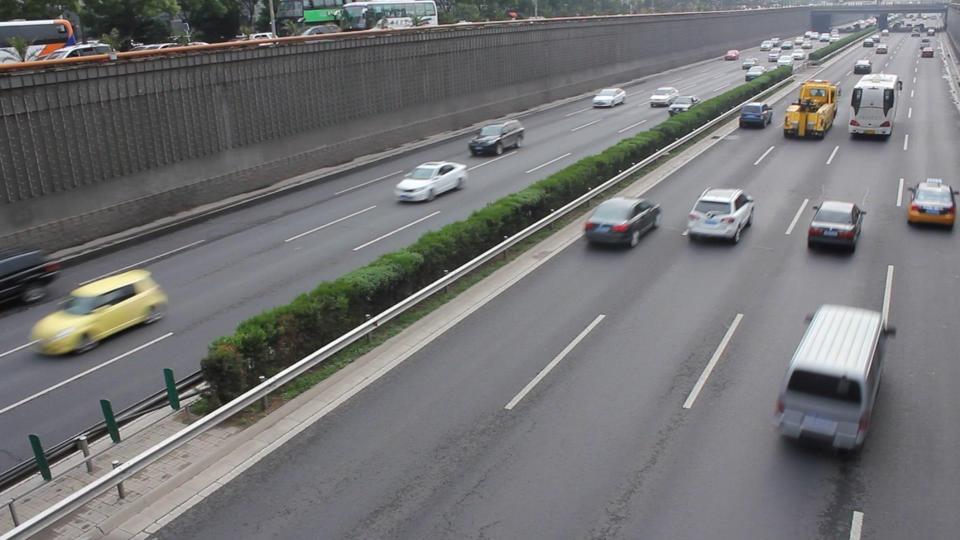Car: (31, 266, 166, 356), (582, 195, 660, 246), (684, 187, 752, 241), (393, 159, 467, 203), (904, 179, 960, 230), (804, 198, 860, 248), (467, 118, 524, 155)
Minivan: (772, 302, 885, 450), (1, 246, 55, 310)
